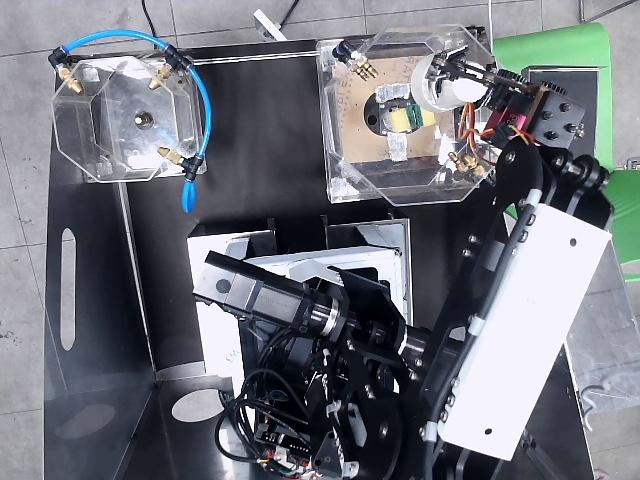cup: (411, 54, 487, 112)
